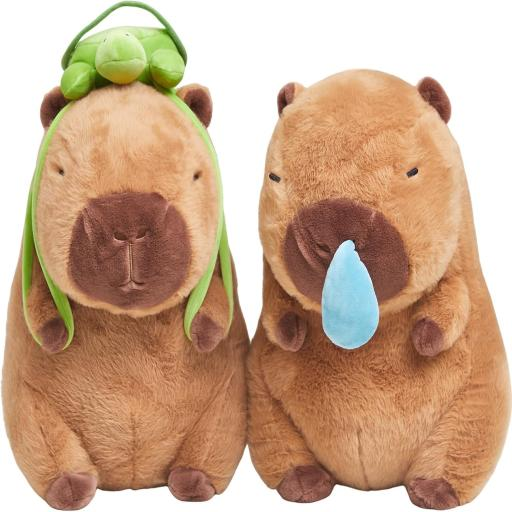capibara: (9, 37, 255, 506), (252, 71, 506, 501)
